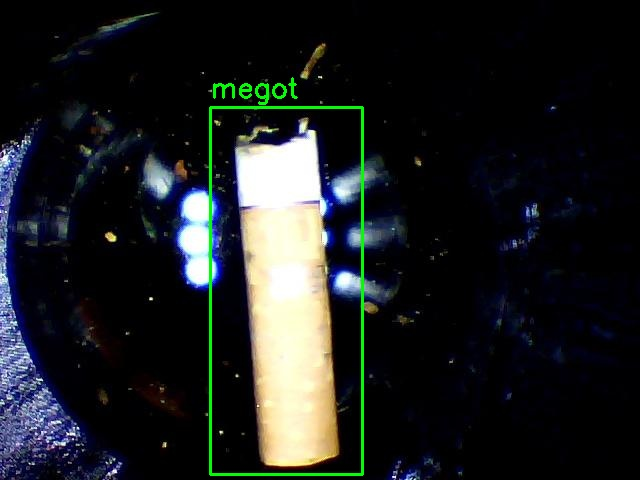megot: (210, 107, 362, 474)
